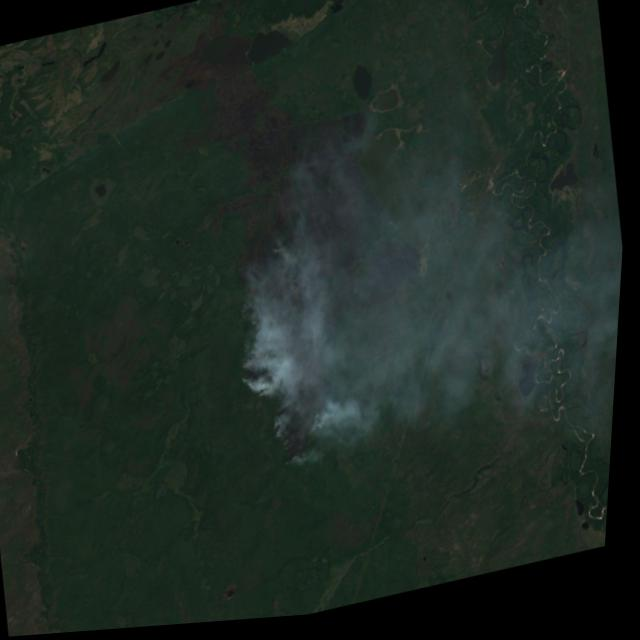fire: (227, 292, 325, 483)
